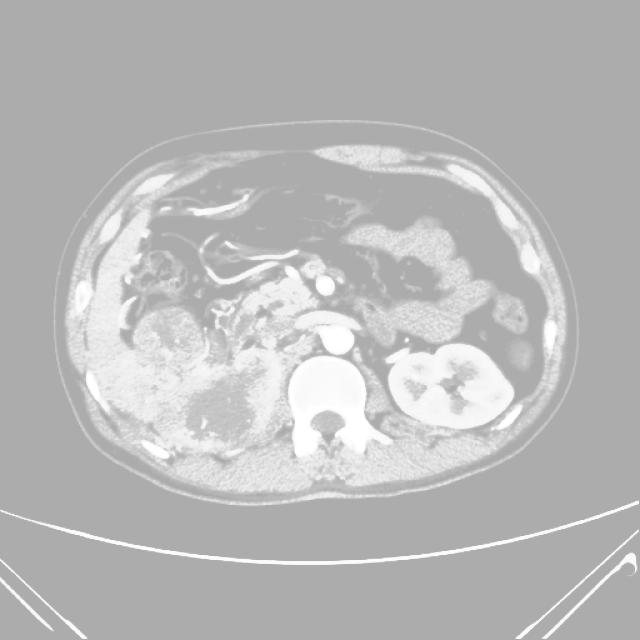TUMOR: (102, 204, 537, 436)
